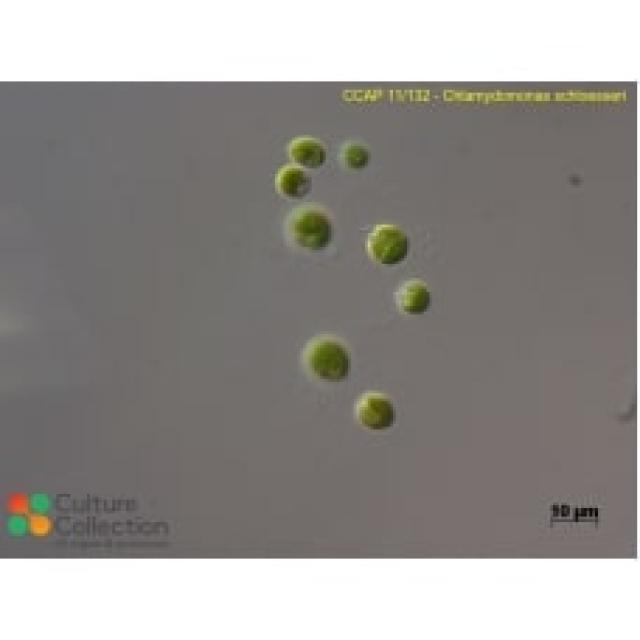Green Algae: (300, 334, 356, 387), (362, 219, 410, 272), (281, 208, 337, 252), (351, 390, 401, 430), (286, 135, 328, 171), (390, 278, 430, 314), (272, 166, 317, 197), (340, 140, 373, 168)
